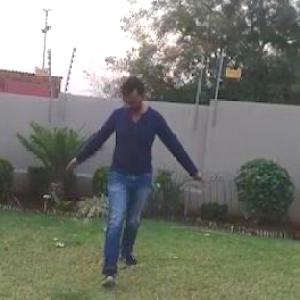land: (63, 72, 205, 284)
